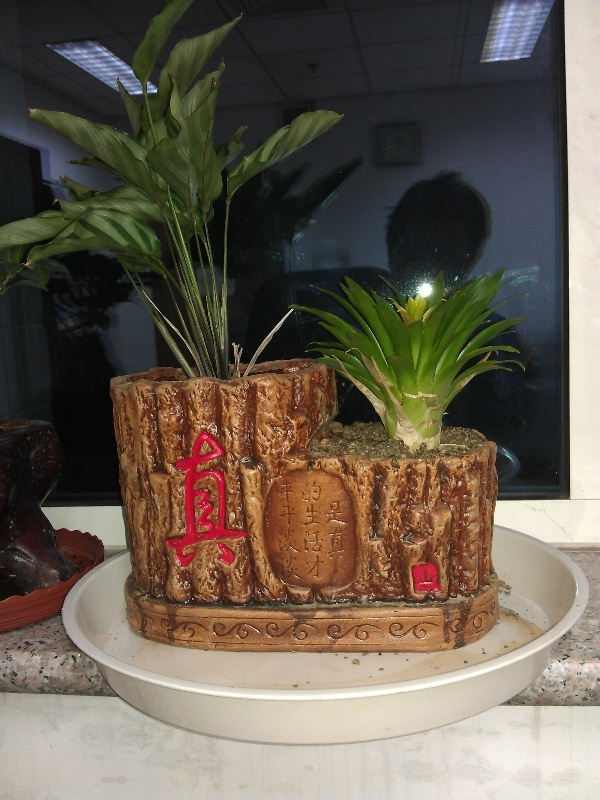text: (177, 430, 192, 569), (193, 430, 208, 569), (209, 430, 224, 569), (225, 430, 240, 569), (305, 480, 320, 579), (289, 479, 302, 582), (167, 430, 176, 569), (241, 430, 250, 569), (277, 479, 288, 582), (337, 498, 351, 560), (325, 498, 336, 560), (321, 480, 326, 579), (301, 480, 304, 579)
